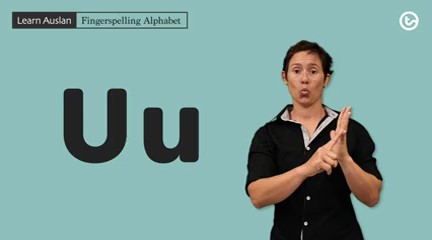U: (302, 101, 366, 179)
